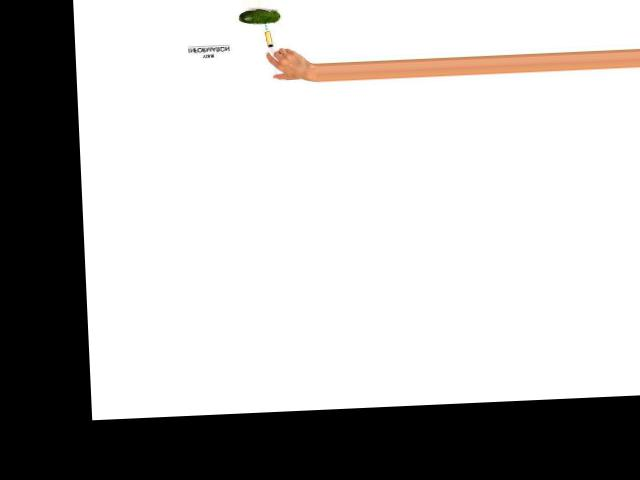cucumber: (239, 9, 281, 24)
